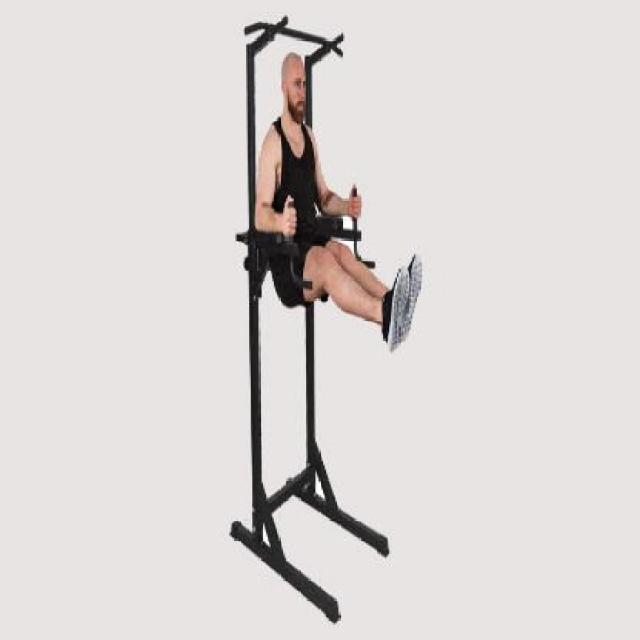chinning dipping: (234, 17, 391, 625)
